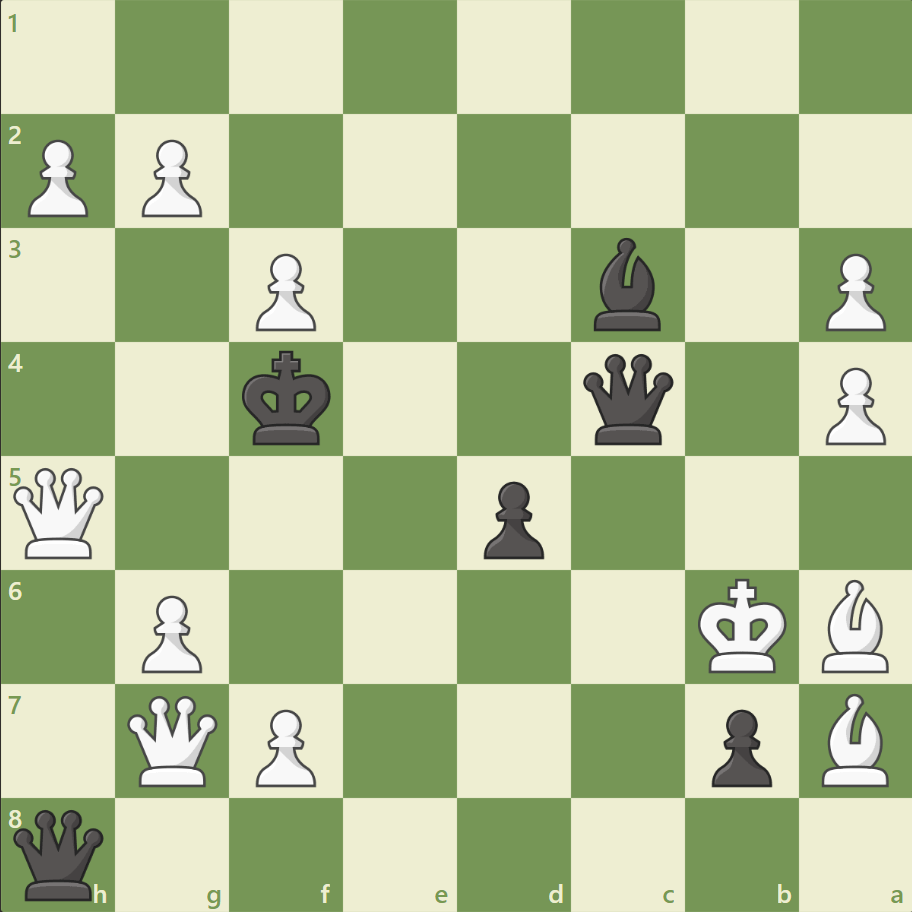B: (812, 687, 896, 790), (812, 574, 896, 676)
K: (692, 571, 792, 679)
P: (247, 700, 322, 791), (133, 586, 208, 677), (247, 246, 322, 337), (133, 132, 208, 223), (20, 132, 95, 223), (815, 359, 889, 450), (815, 246, 889, 337)
Q: (124, 690, 223, 789), (10, 463, 109, 562)
b: (585, 233, 669, 336)
k: (238, 344, 338, 452)
p: (701, 700, 776, 791), (474, 473, 549, 564)
q: (578, 349, 677, 449), (10, 804, 109, 903)
